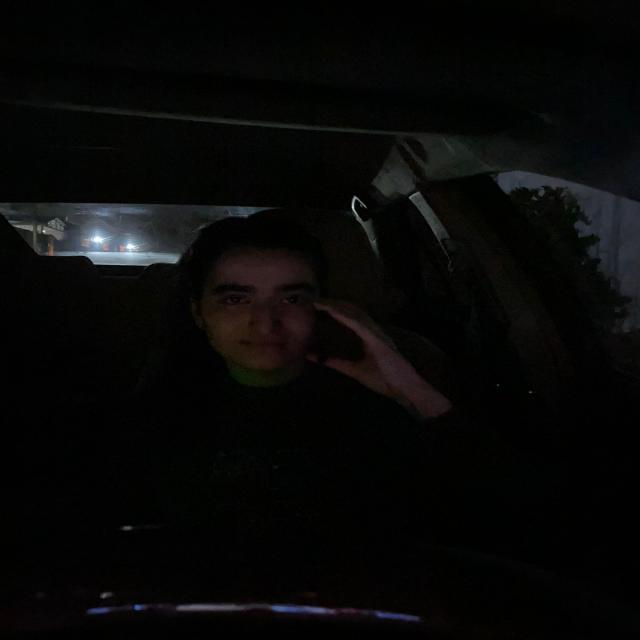mobile: (320, 292, 380, 380)
person: (189, 215, 329, 399)
